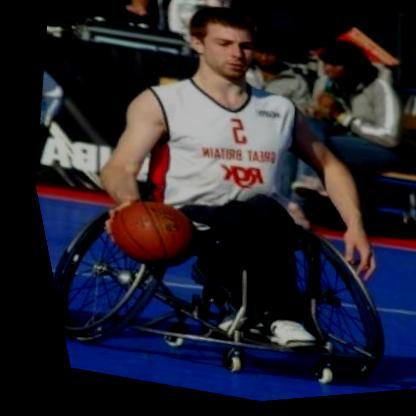basketball: (81, 186, 199, 281)
